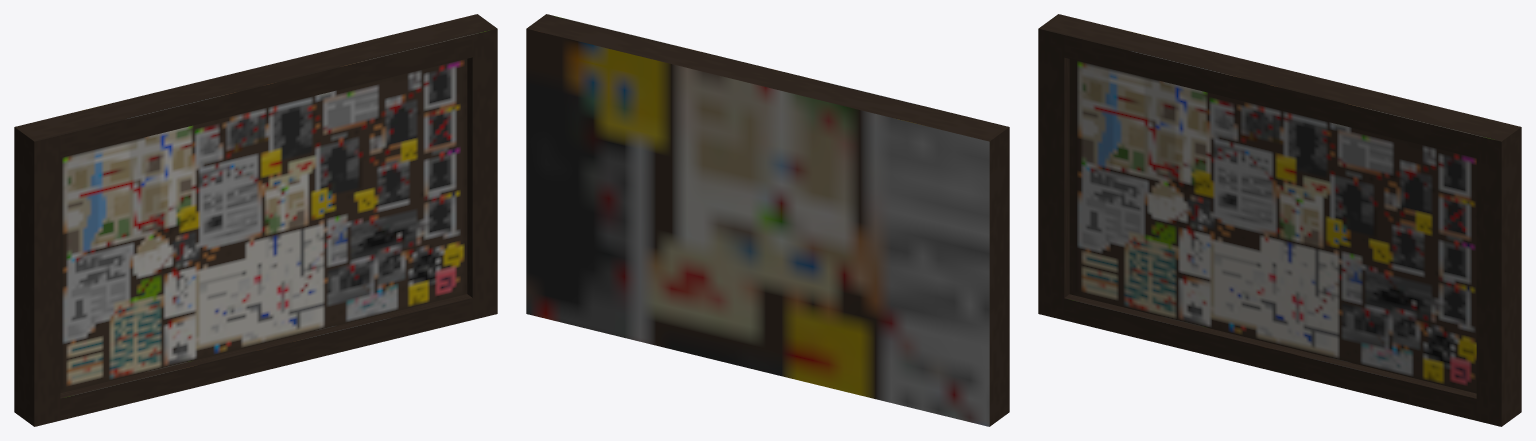
The model's file is Board.fbx.
3 renders of one model, left to right at view 1: azimuth 30°, elevation 25°; view 2: azimuth 150°, elevation 25°; view 3: azimuth 330°, elevation 25°, orthographic.
Visible parts, largest first — view 1: pCube49; view 2: pCube49; view 3: pCube49.
Part boxes in pixels (<box>): pCube49: <box>14,14,497,426</box>; pCube49: <box>526,14,1009,426</box>; pCube49: <box>1038,14,1521,426</box>.
Size of the model in its own units: 888 by 523 by 66.49.
